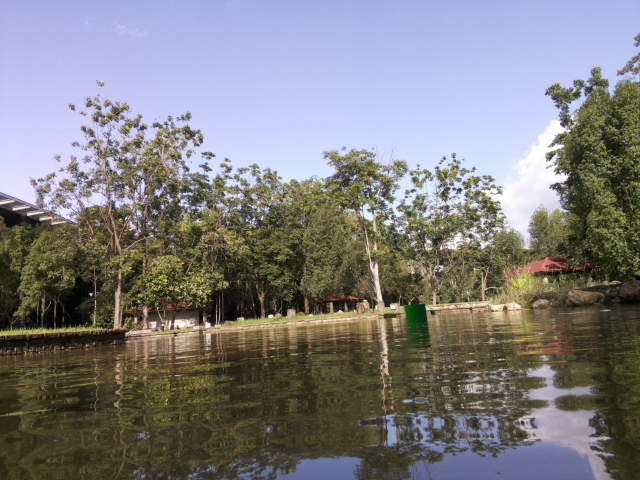obstacle: (403, 303, 429, 323)
